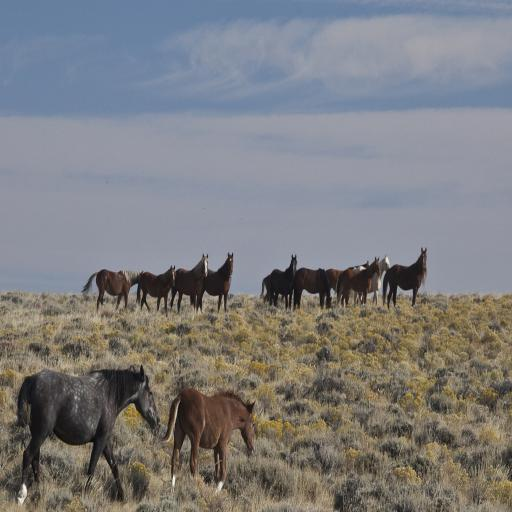Horse: (16, 364, 160, 508), (158, 386, 254, 494), (258, 254, 390, 314), (80, 268, 145, 314), (382, 246, 428, 310), (199, 252, 234, 316), (171, 252, 208, 312), (136, 264, 176, 311)
